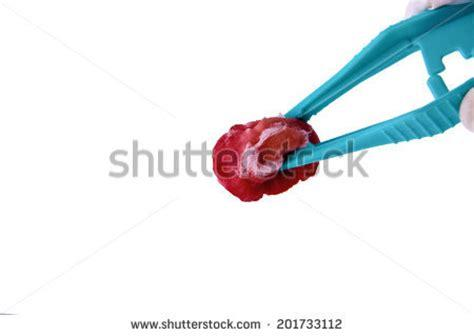cotton: (209, 112, 329, 207)
